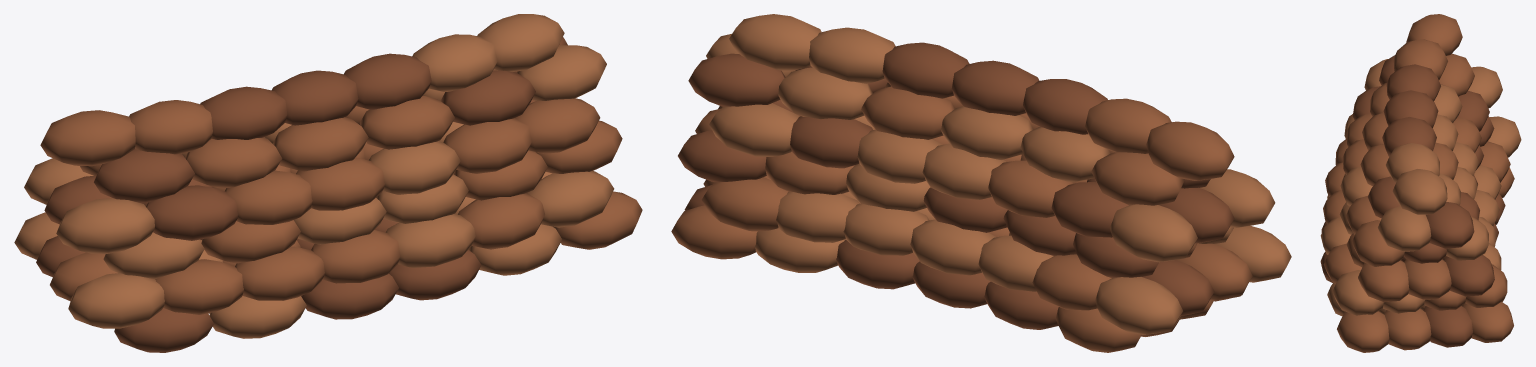
Rendered from D14_sandbag_berm_4m.glb.
3 renders of one model, left to right at view 1: azimuth 30°, elevation 25°; view 2: azimuth 150°, elevation 25°; view 3: azimuth 270°, elevation 25°, orthographic. The views are drawn at different scales.
Parts seen in each view (by area): view 1: sandbag (×44); view 2: sandbag (×45); view 3: sandbag (×62).
Boxes of the visible parts, x1,y1,x2,y2 form: sandbag (×44): (14,14,642,352); sandbag (×45): (671,14,1291,352); sandbag (×62): (1320,14,1521,352).
Size of the model in its own units: 4.59 by 1.61 by 1.87.
